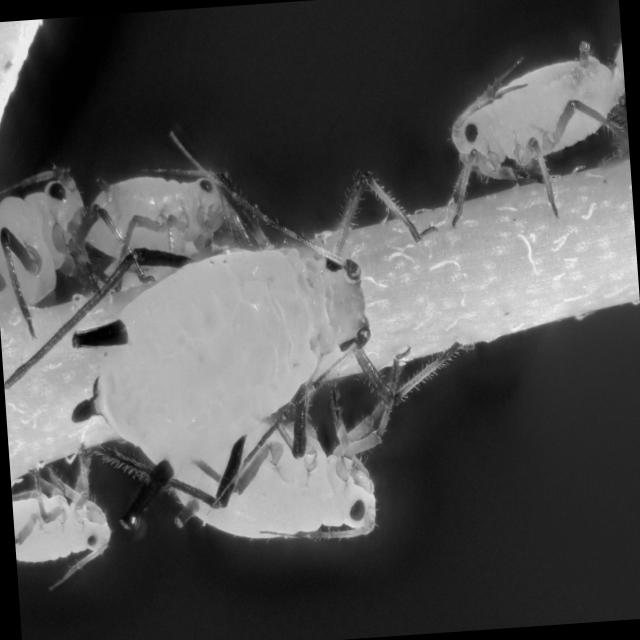Aphids: (48, 199, 474, 476), (126, 389, 436, 560), (402, 32, 634, 230), (52, 128, 274, 289), (0, 146, 95, 315), (10, 471, 110, 584)
